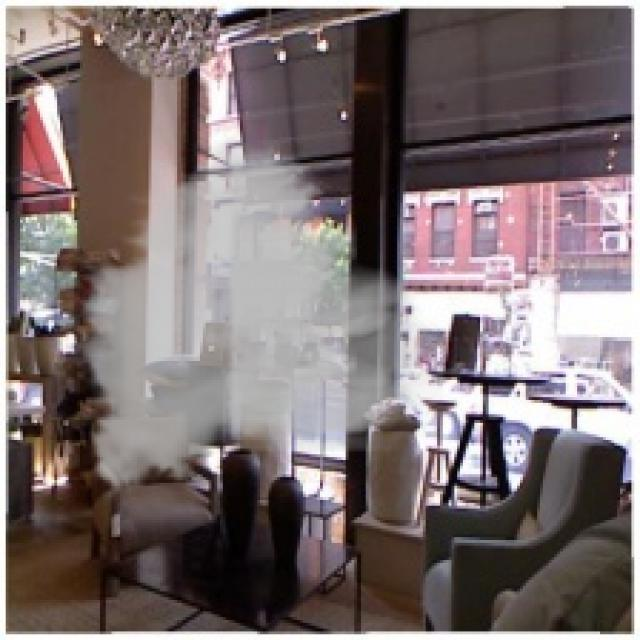Smoke: (66, 126, 443, 508)
